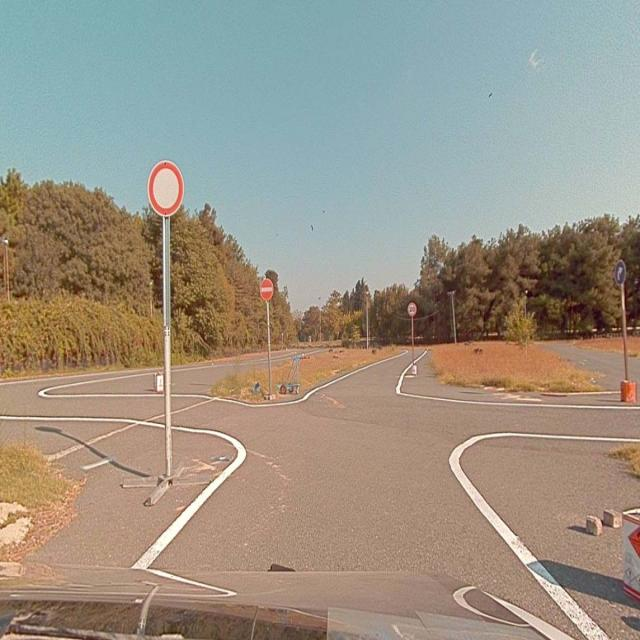20: (408, 304, 416, 315)
girisyok: (260, 279, 273, 300)
sag: (615, 262, 625, 284)
